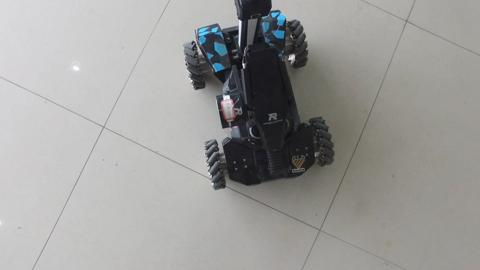chariot: (175, 2, 329, 189)
